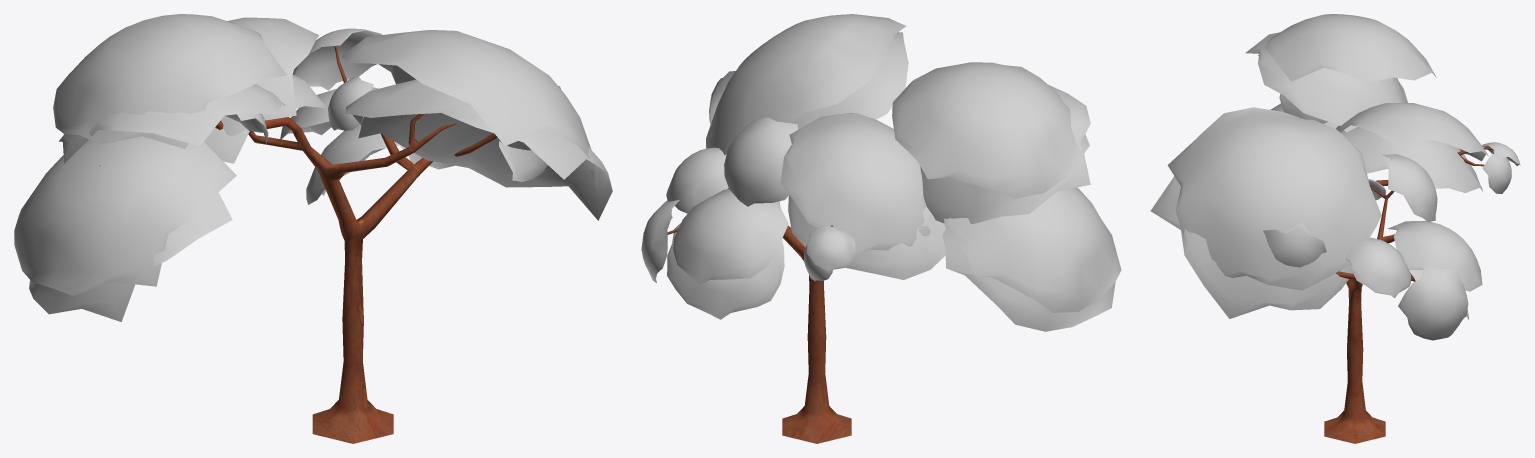
File: Tree_1.fbx
3 views of the same model, side by side, from view 1: azimuth 30°, elevation 25°; view 2: azimuth 150°, elevation 25°; view 3: azimuth 270°, elevation 25° (orthographic). The views are drawn at different scales.
Parts seen in each view (by area): view 1: Tree_1; view 2: Tree_1; view 3: Tree_1.
Boxes of the visible parts, left/top/right/bottom form: Tree_1: left=14, top=14, right=612, bottom=443; Tree_1: left=641, top=14, right=1121, bottom=443; Tree_1: left=1150, top=14, right=1520, bottom=443.
Bounding box in the file's own units: 858 × 747 × 738.
